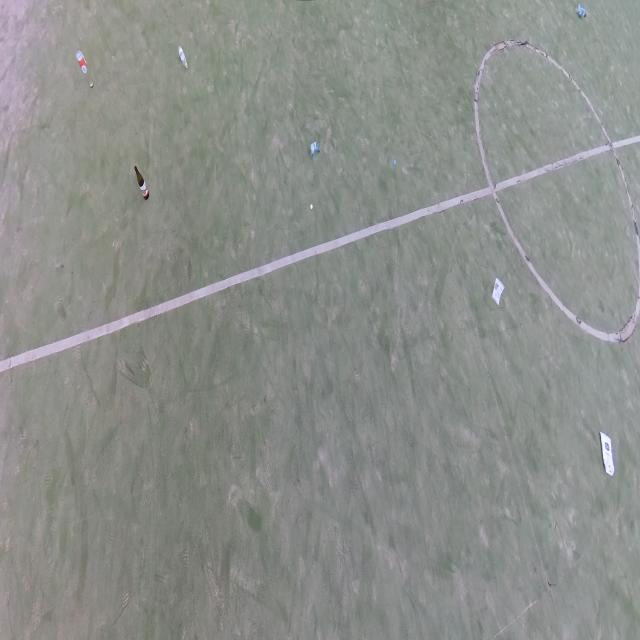rubbish: (599, 430, 615, 476), (76, 49, 94, 88), (135, 165, 149, 199), (492, 277, 506, 306), (178, 45, 188, 70), (309, 141, 321, 159), (574, 4, 587, 19), (310, 203, 313, 212), (393, 159, 396, 164)
